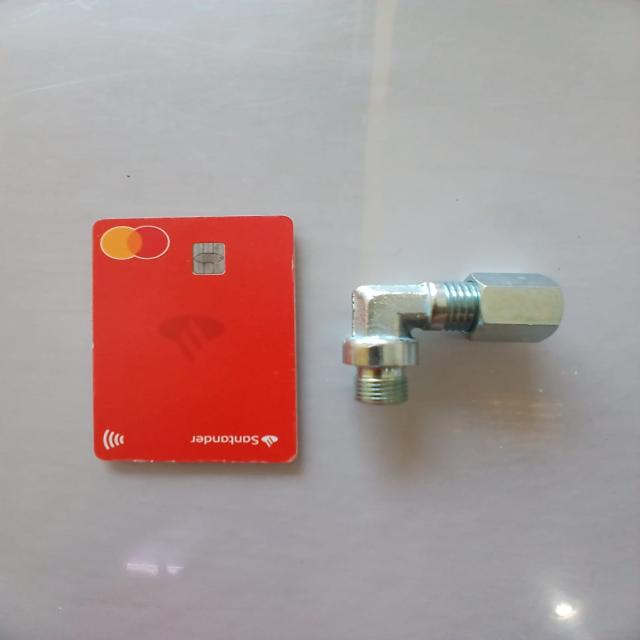cartao: (92, 216, 294, 461)
rosca_externa: (344, 271, 566, 404)
